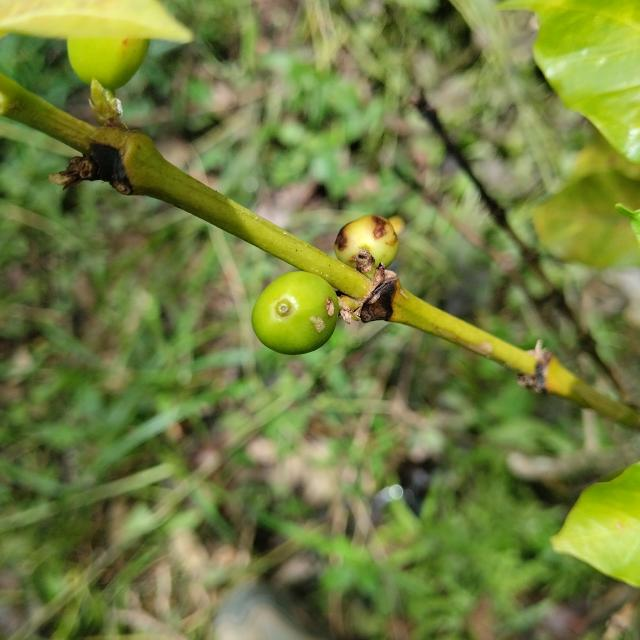yellow: (252, 271, 339, 355), (66, 36, 149, 90), (334, 215, 399, 268)
